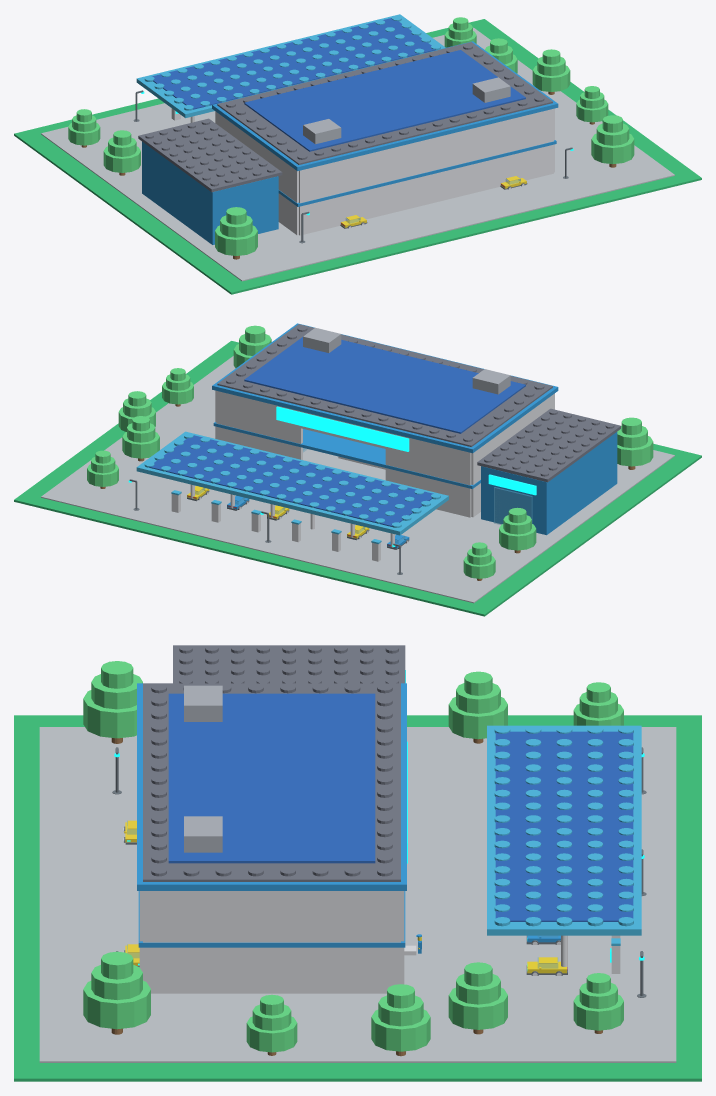
The model's file is vityaz_taxi_hub.glb.
The picture shows the model from 3 angles, top to bottom: view 1: azimuth 30°, elevation 25°; view 2: azimuth 150°, elevation 25°; view 3: azimuth 270°, elevation 25°; orthographic projection. The views are drawn at different scales.
Visible parts, largest first — view 1: Hub_Concrete_Curbs, Terminal_Wall_Back, Terminal_Solar_Panels, Hub_Master_Green, Charger_Canopy_Solar, Terminal_Roof_Deck, Car_Wash_Hangar, Car_Wash_Roof, Charger_Canopy_Roof, Terminal_Band_Top, Terminal_Wall_Left, Lego_Pine_5 (+10 smaller); view 2: Hub_Concrete_Curbs, Terminal_Solar_Panels, Hub_Master_Green, Charger_Canopy_Solar, Charger_Canopy_Roof, Terminal_Roof_Deck, Car_Wash_Hangar, Car_Wash_Roof, Terminal_Wall_Front_L, Terminal_Wall_Front_R, Terminal_Band_Top, Terminal_Band_Mid (+14 smaller); view 3: Hub_Concrete_Curbs, Hub_Master_Green, Terminal_Solar_Panels, Terminal_Wall_Right, Charger_Canopy_Solar, Terminal_Roof_Deck, Charger_Canopy_Roof, Car_Wash_Roof, Terminal_Band_Top, Lego_Pine_5, Lego_Pine_2, Lego_Pine_7 (+8 smaller).
Boxes of the visible parts, left/top/right/bottom form: Hub_Concrete_Curbs: left=41, top=27, right=674, bottom=281; Terminal_Wall_Back: left=299, top=108, right=553, bottom=235; Terminal_Solar_Panels: left=244, top=50, right=525, bottom=151; Hub_Master_Green: left=14, top=19, right=701, bottom=294; Charger_Canopy_Solar: left=152, top=18, right=435, bottom=109; Terminal_Roof_Deck: left=217, top=42, right=552, bottom=164; Car_Wash_Hangar: left=142, top=141, right=278, bottom=244; Car_Wash_Roof: left=138, top=118, right=282, bottom=192; Charger_Canopy_Roof: left=136, top=14, right=445, bottom=118; Terminal_Band_Top: left=212, top=41, right=558, bottom=171; Terminal_Wall_Left: left=215, top=111, right=298, bottom=235; Lego_Pine_5: left=591, top=115, right=634, bottom=164; Hub_Concrete_Curbs: left=41, top=356, right=674, bottom=603; Terminal_Solar_Panels: left=244, top=337, right=525, bottom=433; Hub_Master_Green: left=14, top=341, right=701, bottom=616; Charger_Canopy_Solar: left=149, top=435, right=433, bottom=526; Charger_Canopy_Roof: left=136, top=431, right=448, bottom=535; Terminal_Roof_Deck: left=217, top=324, right=552, bottom=446; Car_Wash_Hangar: left=481, top=432, right=617, bottom=535; Car_Wash_Roof: left=477, top=408, right=620, bottom=482; Terminal_Wall_Front_L: left=385, top=432, right=471, bottom=517; Terminal_Wall_Front_R: left=216, top=391, right=302, bottom=459; Terminal_Band_Top: left=212, top=323, right=558, bottom=453; Terminal_Band_Mid: left=213, top=422, right=480, bottom=488; Hub_Concrete_Curbs: left=39, top=727, right=676, bottom=1062; Hub_Master_Green: left=14, top=715, right=701, bottom=1081; Terminal_Solar_Panels: left=168, top=693, right=375, bottom=863; Terminal_Wall_Right: left=143, top=891, right=400, bottom=993; Charger_Canopy_Solar: left=495, top=731, right=633, bottom=921; Terminal_Roof_Deck: left=143, top=683, right=400, bottom=881; Charger_Canopy_Roof: left=487, top=725, right=641, bottom=935; Car_Wash_Roof: left=173, top=645, right=405, bottom=683; Terminal_Band_Top: left=137, top=683, right=406, bottom=890; Lego_Pine_5: left=83, top=951, right=150, bottom=1029; Lego_Pine_2: left=83, top=661, right=142, bottom=738; Lego_Pine_7: left=371, top=984, right=430, bottom=1051.
Size of the model in its own units: 100 by 17.85 by 80.
